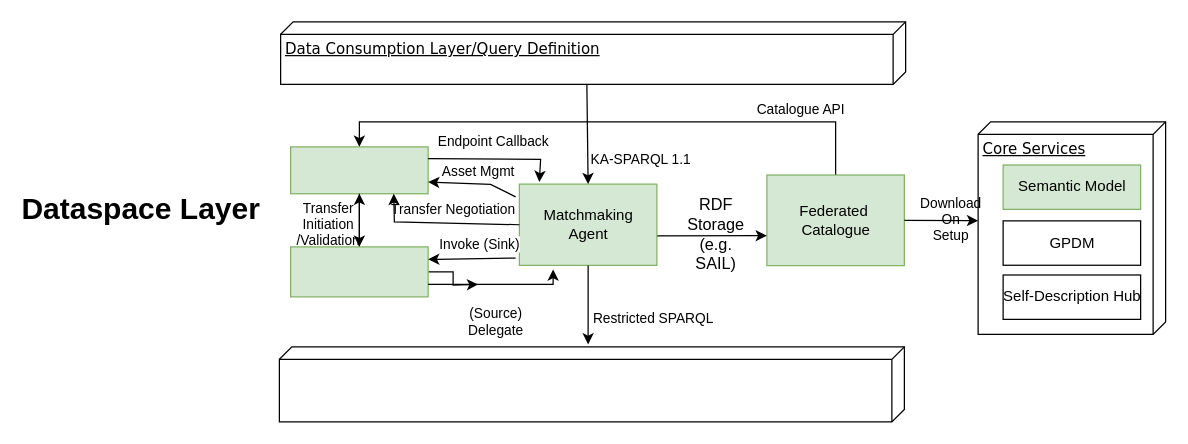
This 1188x444 diagram has some shape labels left out. Each missing label, with the centre of its shape:
Binding Layer: the point at 591,384
EDC Control Plane + HttpProtocols: the point at 358,170
EDC Data Plane(s) +urn:cx:Protocol:w3c:Http #SPARQL: the point at 358,271
